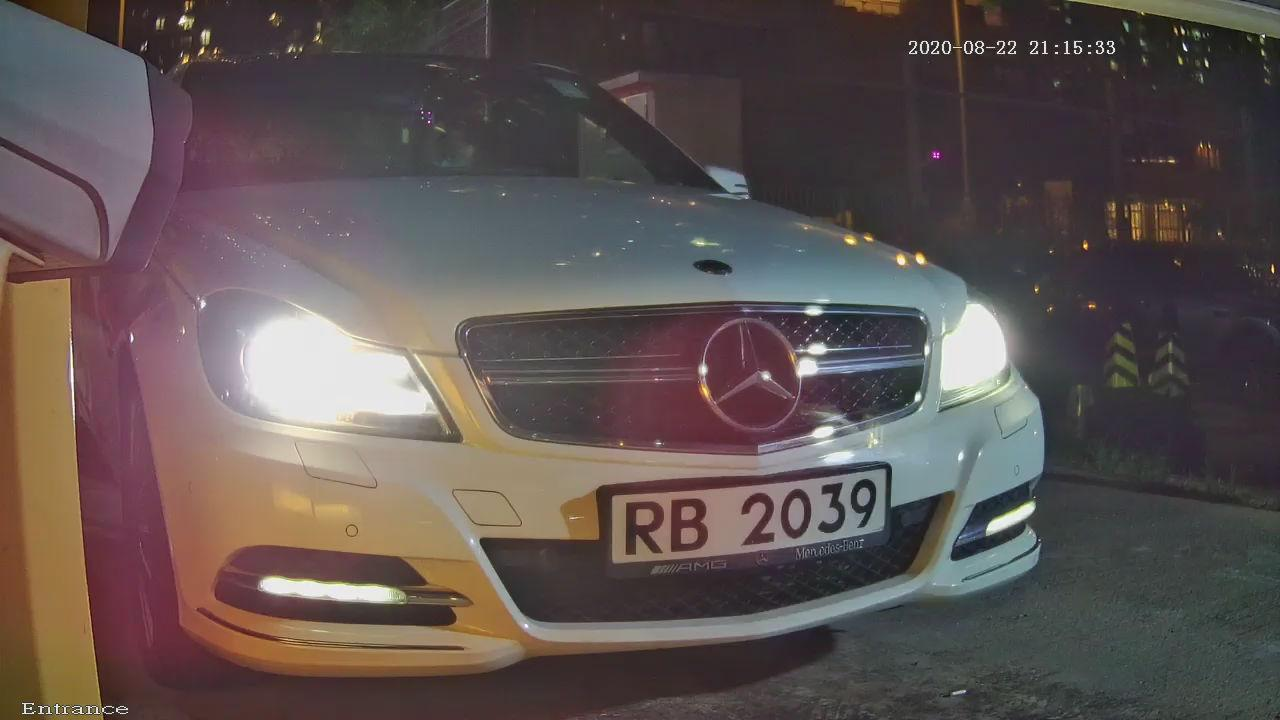License Plate: (564, 432, 924, 621)
